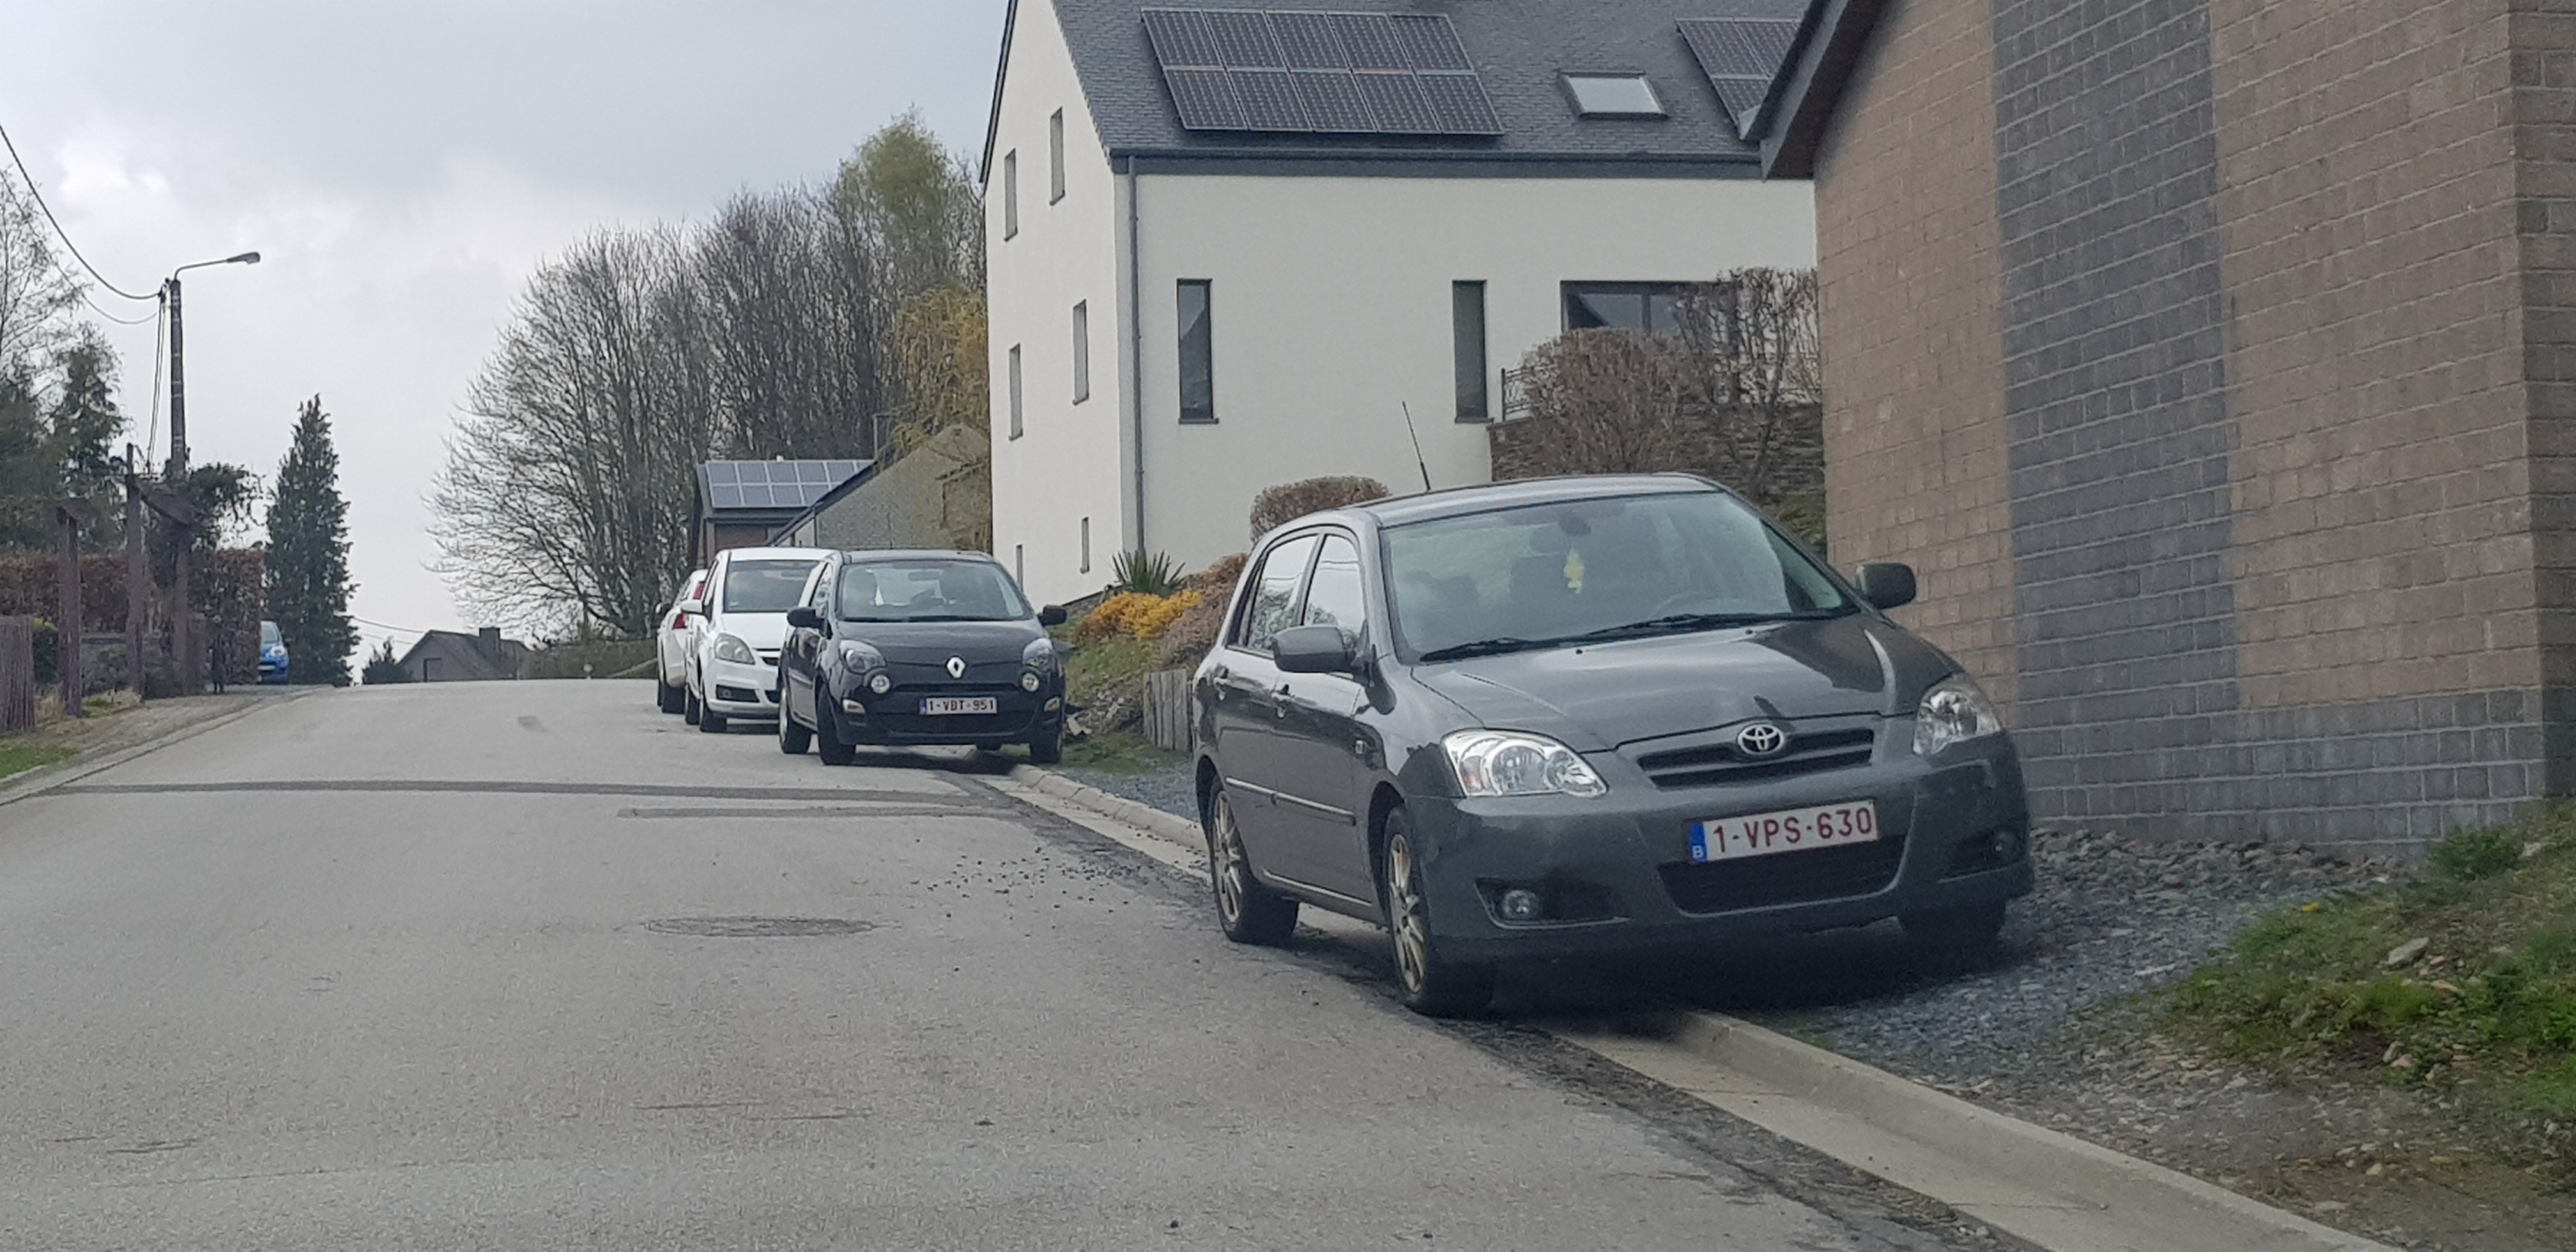licenceplate: (1680, 793, 1882, 865), (918, 695, 999, 714)
